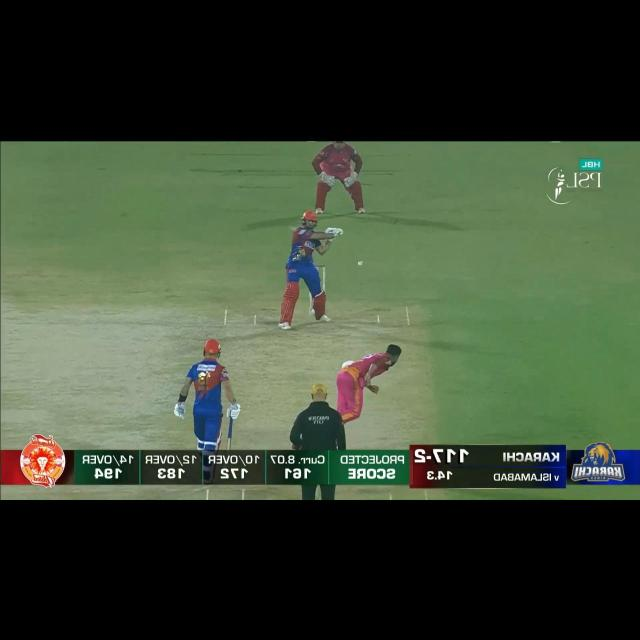bat: (224, 438, 234, 450)
toe: (286, 225, 298, 231)
